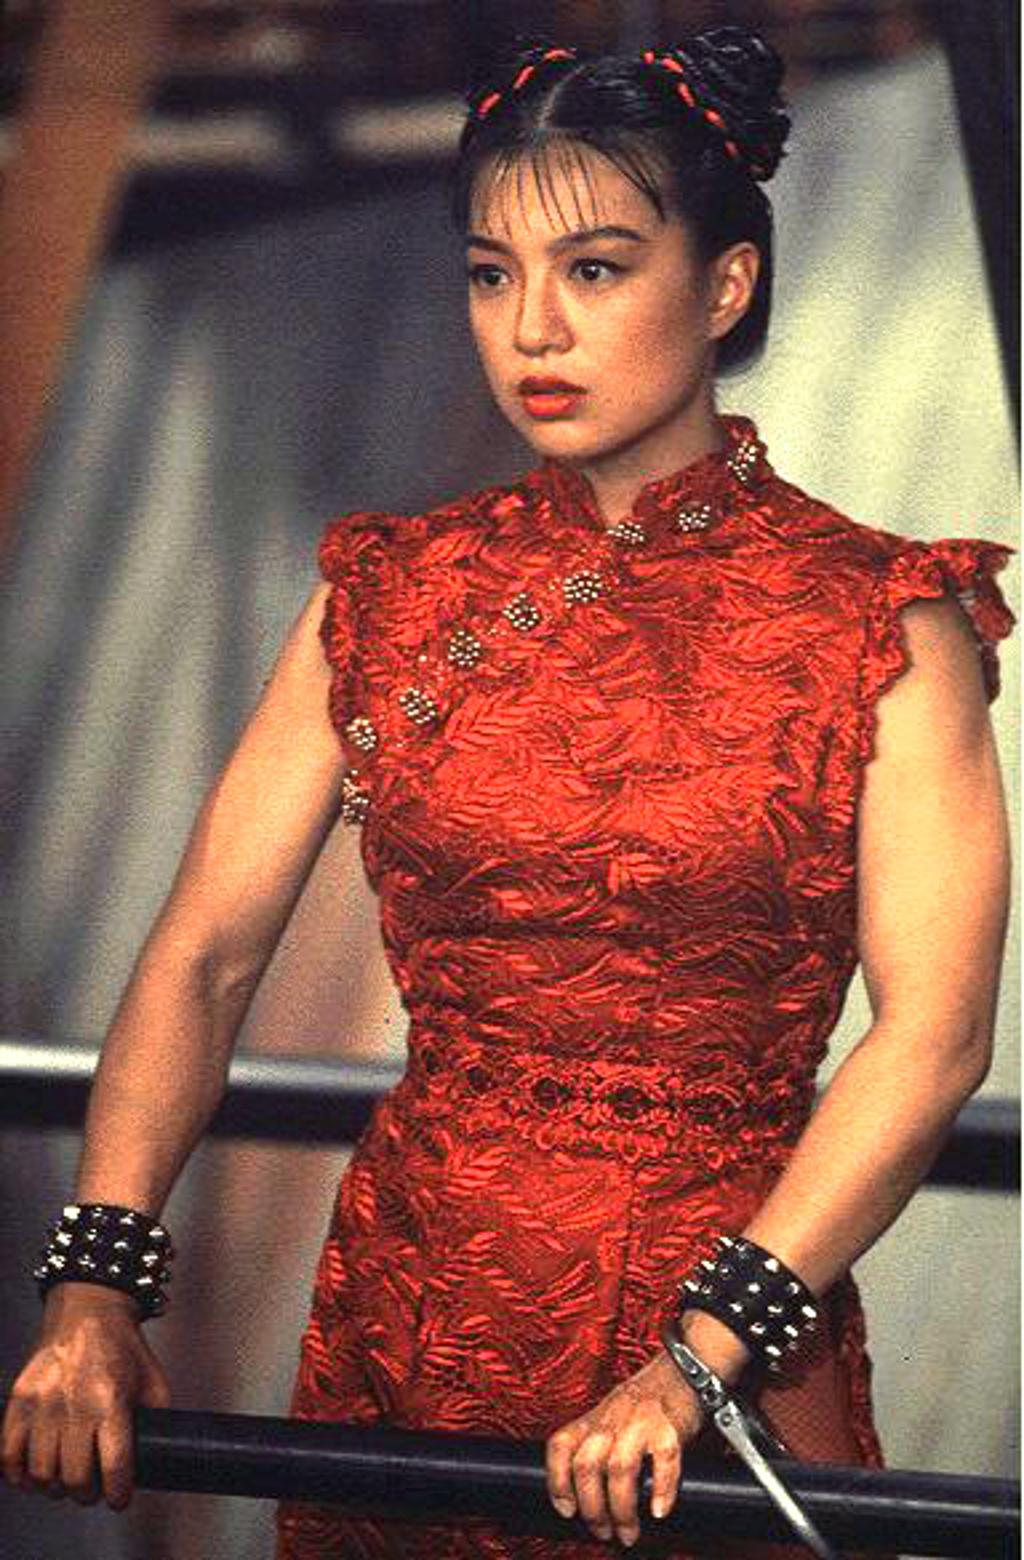face: (457, 134, 701, 460)
